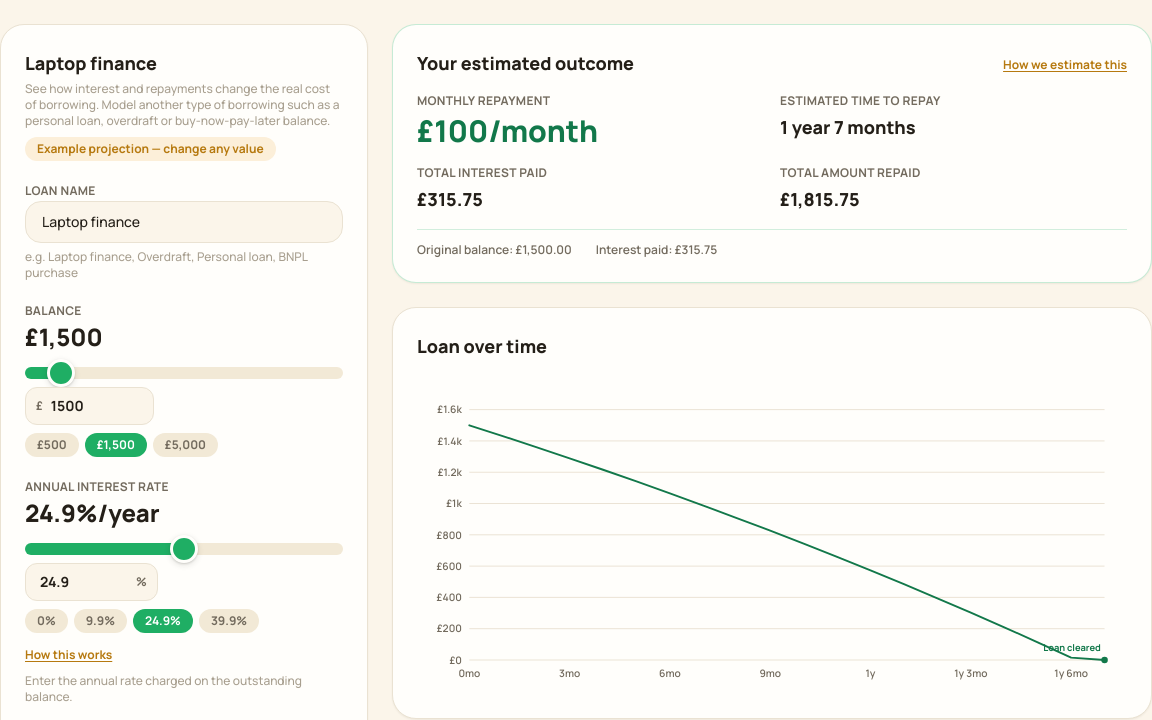
CustomLoanPanel - annual interest rate wording › discloses that this is an illustrative monthly rate derived from the annual rate, closed until clicked
The image size is (1152, 720).
Click the button "How this works": (69,655) top-left (25, 647), bottom-right (112, 663)
(page scrolled)
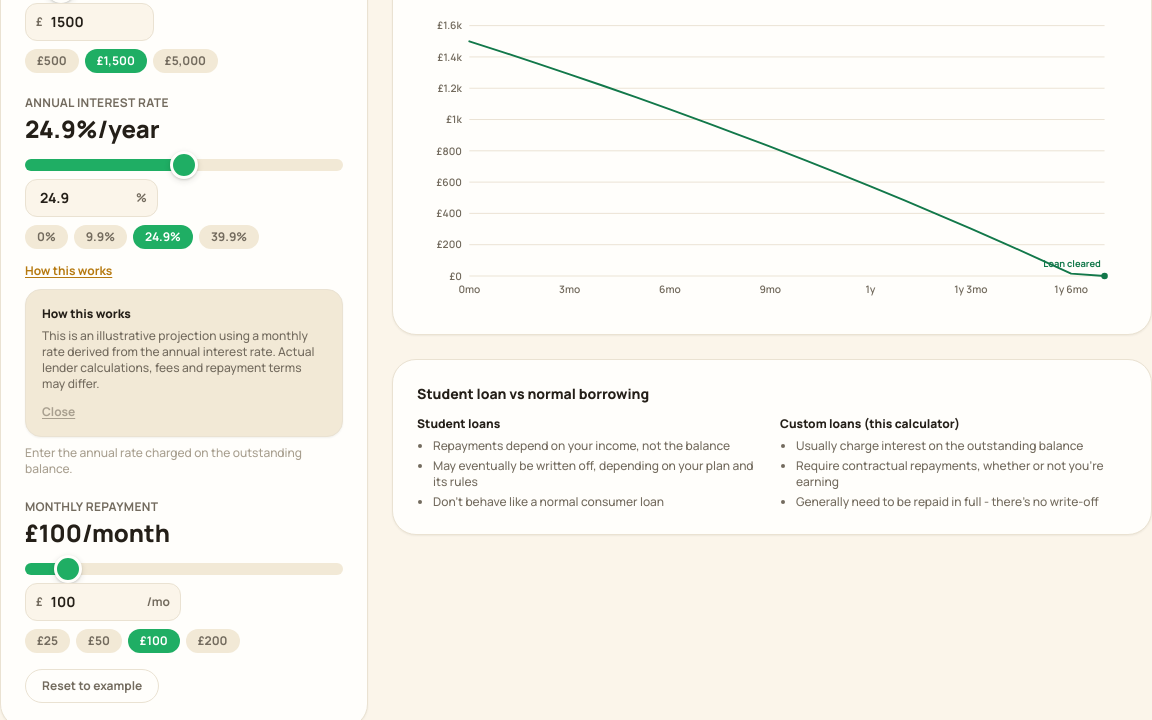
expect the text "Actual lender calculations, fees and repayment terms may differ" is shown: met, box top-left (42, 327), bottom-right (314, 392)
